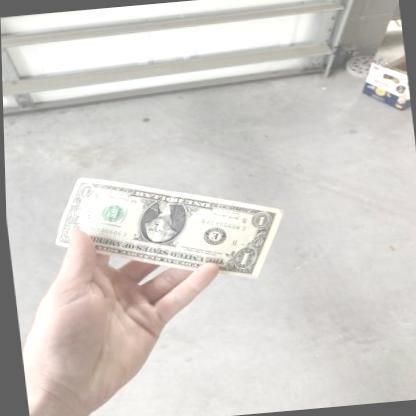one-front: (52, 176, 283, 282)
